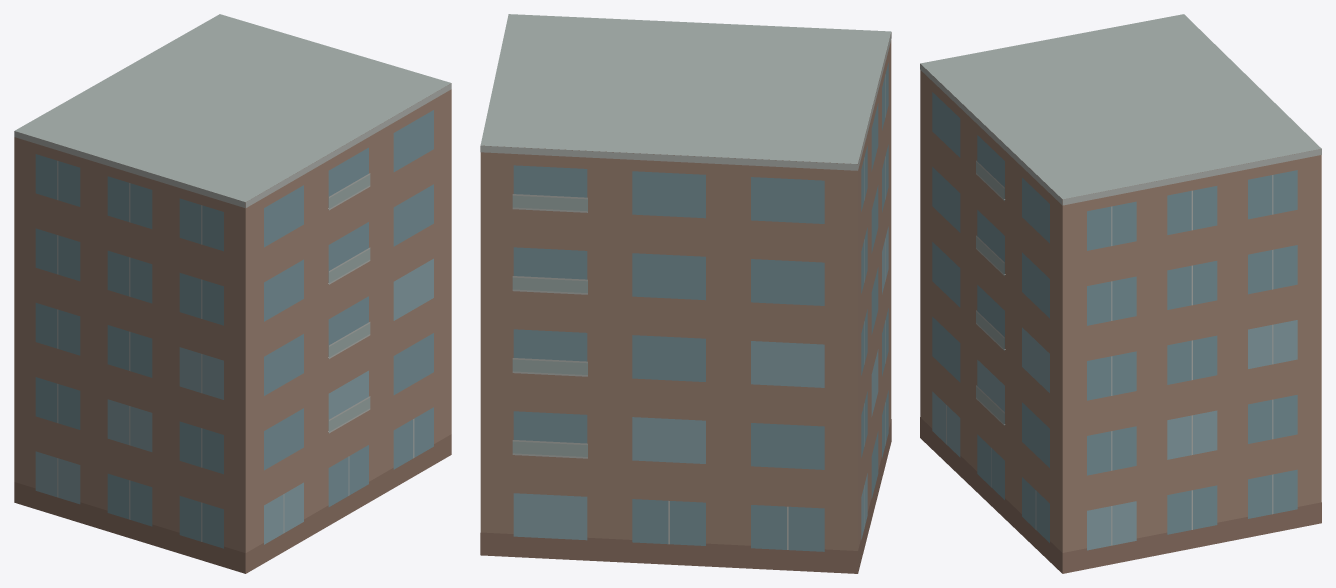
File: survey-upis-32677904.glb
3 views of the same model, side by side, from view 1: azimuth 30°, elevation 25°; view 2: azimuth 150°, elevation 25°; view 3: azimuth 270°, elevation 25° (orthographic). The views are drawn at different scales.
Visible parts, largest first — view 1: survey-upis-32677904.tmp; view 2: survey-upis-32677904.tmp; view 3: survey-upis-32677904.tmp.
Boxes of the visible parts, box(x1,y1,x2,y2) form: survey-upis-32677904.tmp: box(14, 14, 451, 573); survey-upis-32677904.tmp: box(480, 14, 891, 573); survey-upis-32677904.tmp: box(920, 14, 1321, 573).
Bounding box in the file's own units: 15.78 × 14.85 × 14.44.
